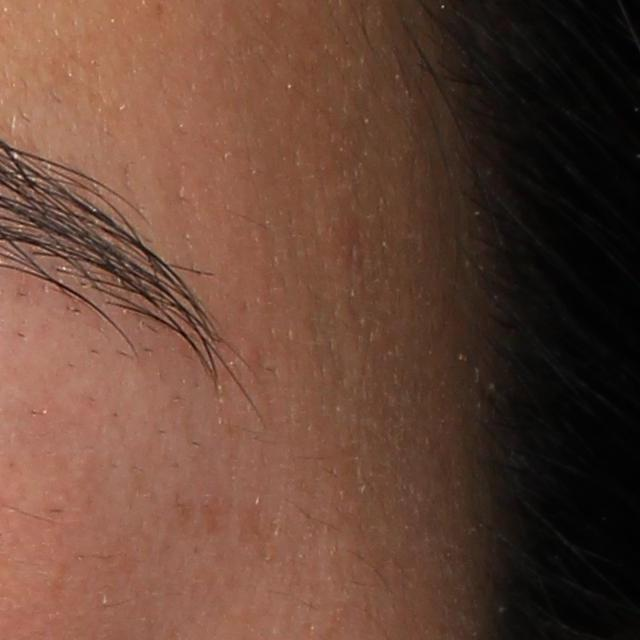melasma: (235, 496, 282, 568), (195, 491, 229, 543)
